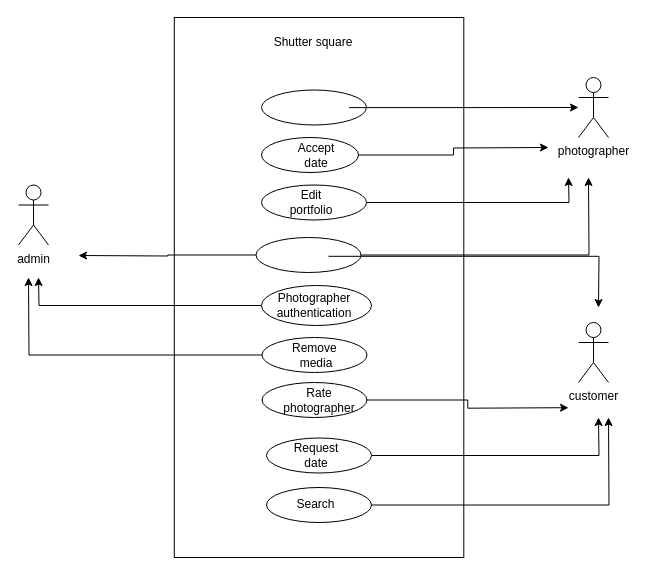
Some shapes in this 646 by 575 pixel diagram are drawn without their labels. Here are the shapes that lost their labels. From the top down, the box of each, then its label:
(260, 89, 366, 125): Upload media
(255, 236, 361, 272): Login
